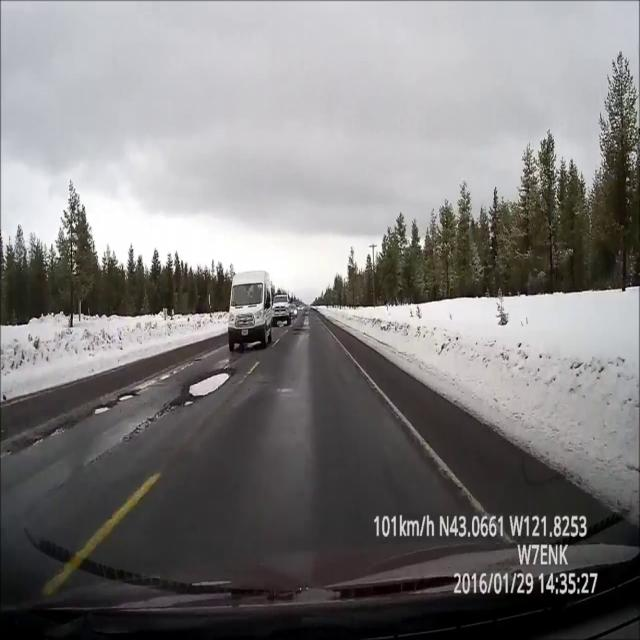Pothole: (182, 368, 234, 408), (117, 390, 137, 404), (95, 402, 112, 416), (293, 327, 307, 332), (304, 313, 308, 317)
